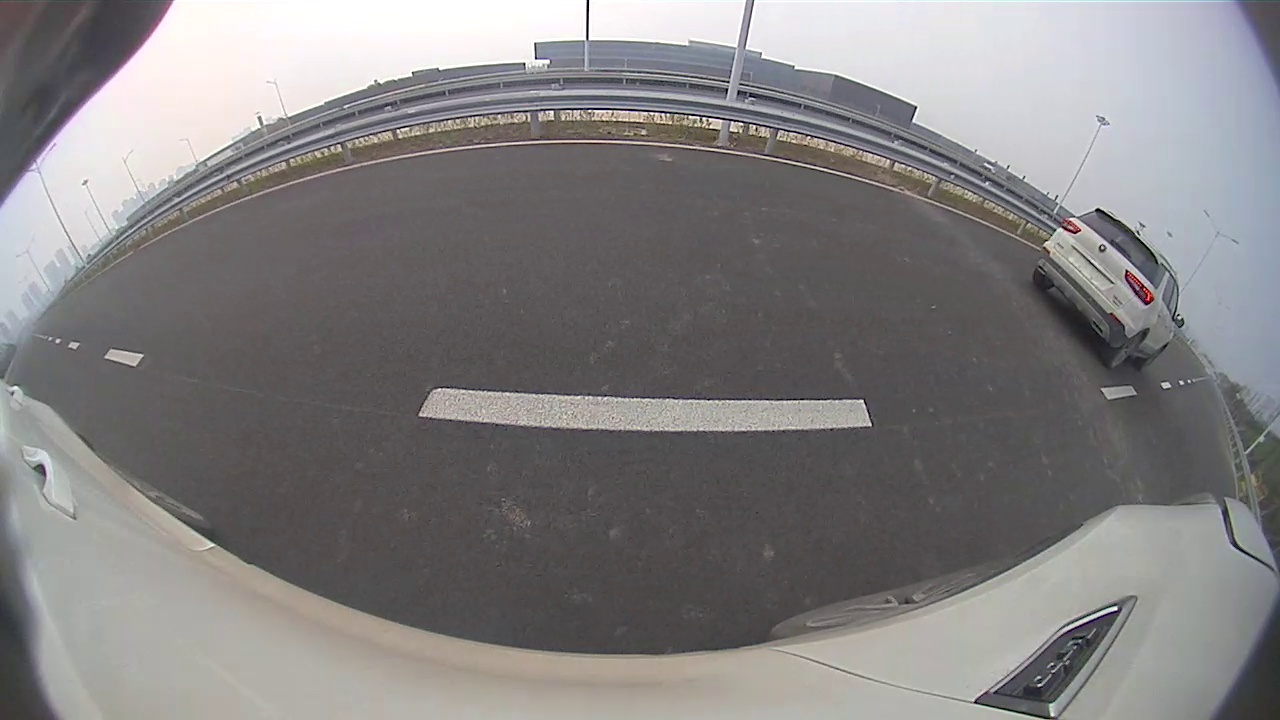car: (664, 144, 744, 195)
rear: (682, 173, 690, 194)
